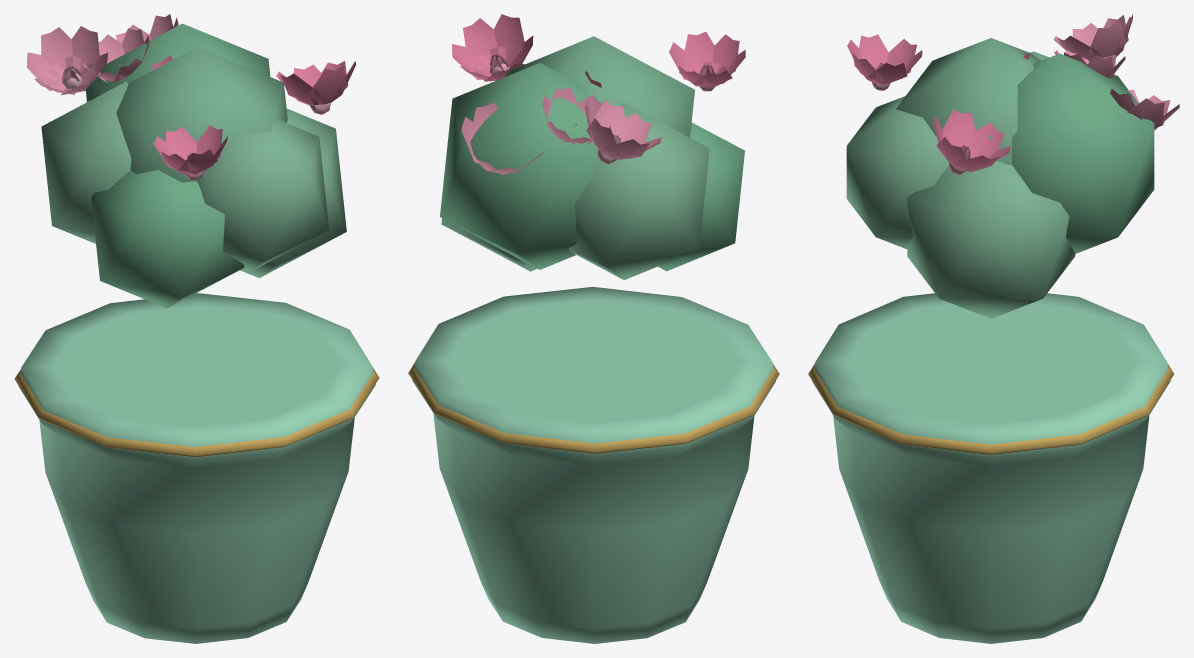
File: potted_roses.glb
The picture shows the model from 3 angles, left to right: view 1: azimuth 30°, elevation 25°; view 2: azimuth 150°, elevation 25°; view 3: azimuth 270°, elevation 25°; orthographic projection.
Visible parts, largest first — view 1: potted_roses; view 2: potted_roses; view 3: potted_roses.
Boxes of the visible parts, bbox=[...] form: potted_roses: bbox=[14, 14, 379, 643]; potted_roses: bbox=[408, 14, 779, 643]; potted_roses: bbox=[808, 14, 1179, 643].
Size of what is drawn, in the model's own units: 0.6 by 1 by 0.6.
